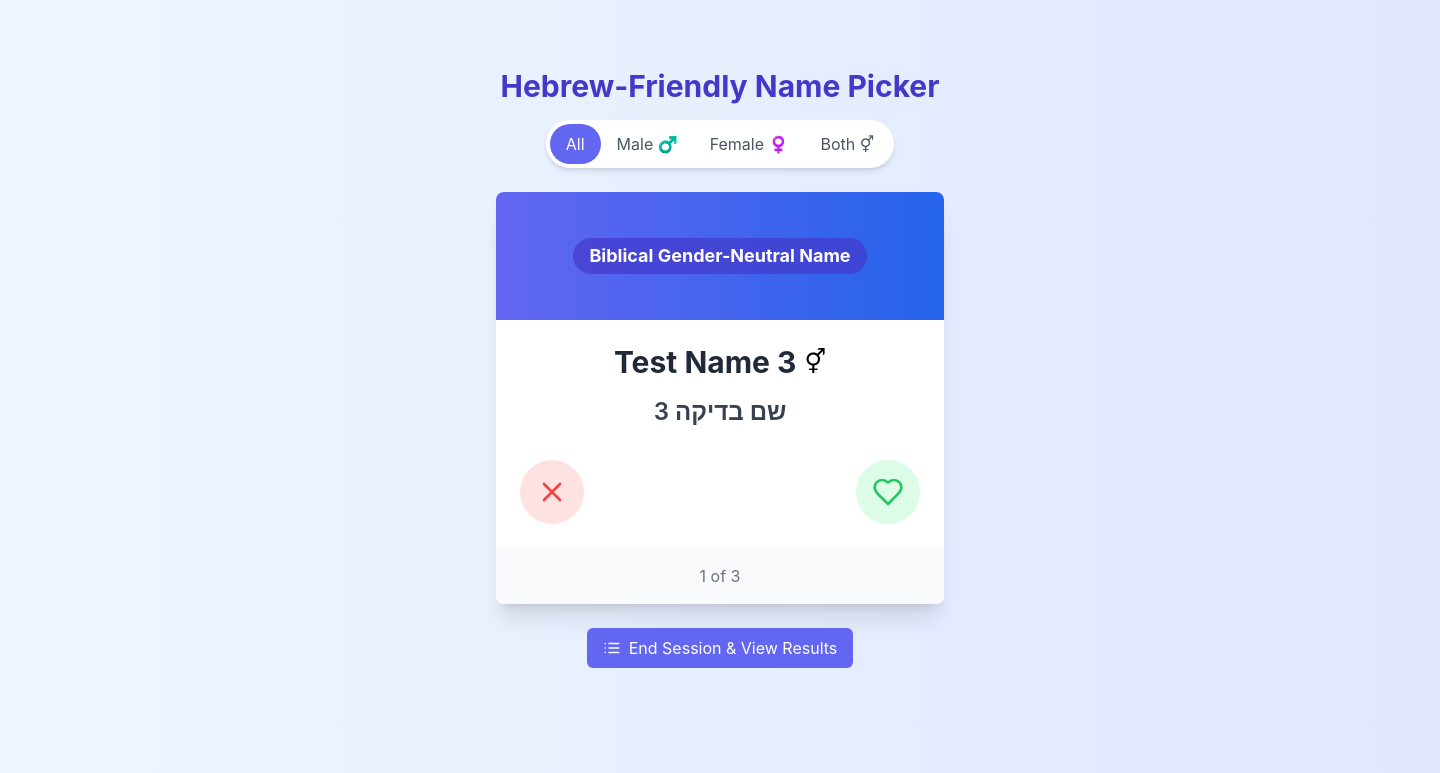
it: HebrewNamesTinder › shows results when all names have been rated
The image size is (1440, 773).
Step 1. Click the button named "Like" → click(888, 492), box [856,460,920,524]
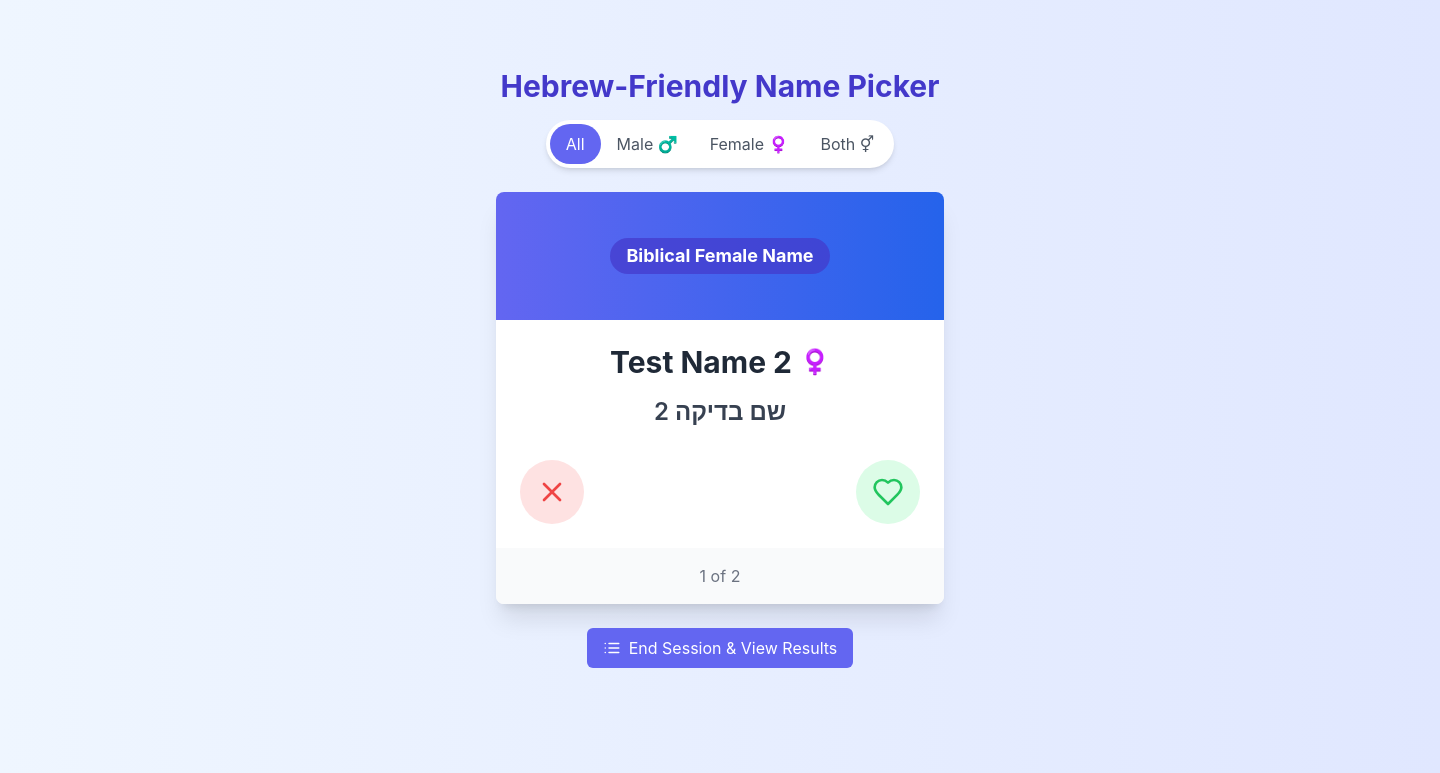
Step 2. Click the button named "Like" → click(888, 492), box [856,460,920,524]
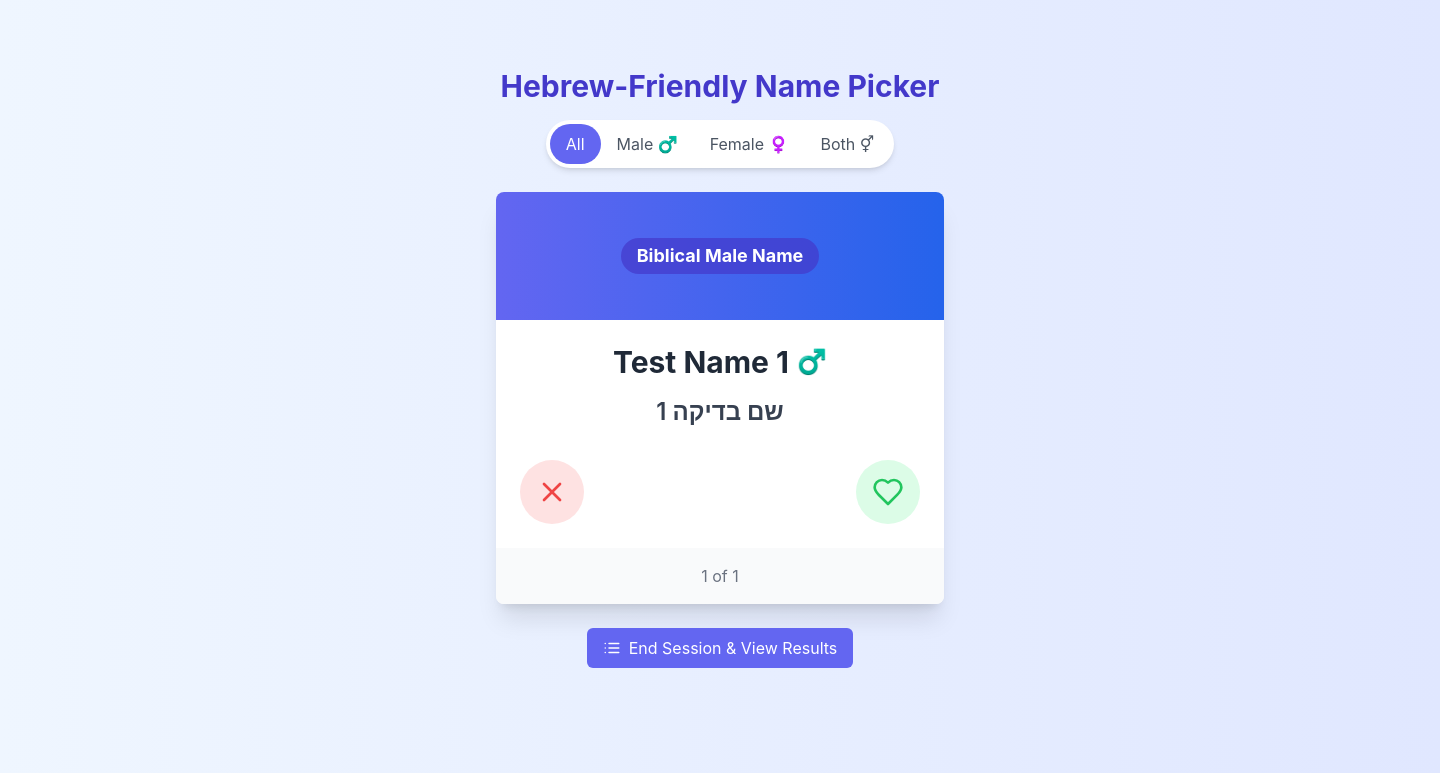
Step 3. Click the button named "Like" → click(888, 492), box [856,460,920,524]
(page scrolled)
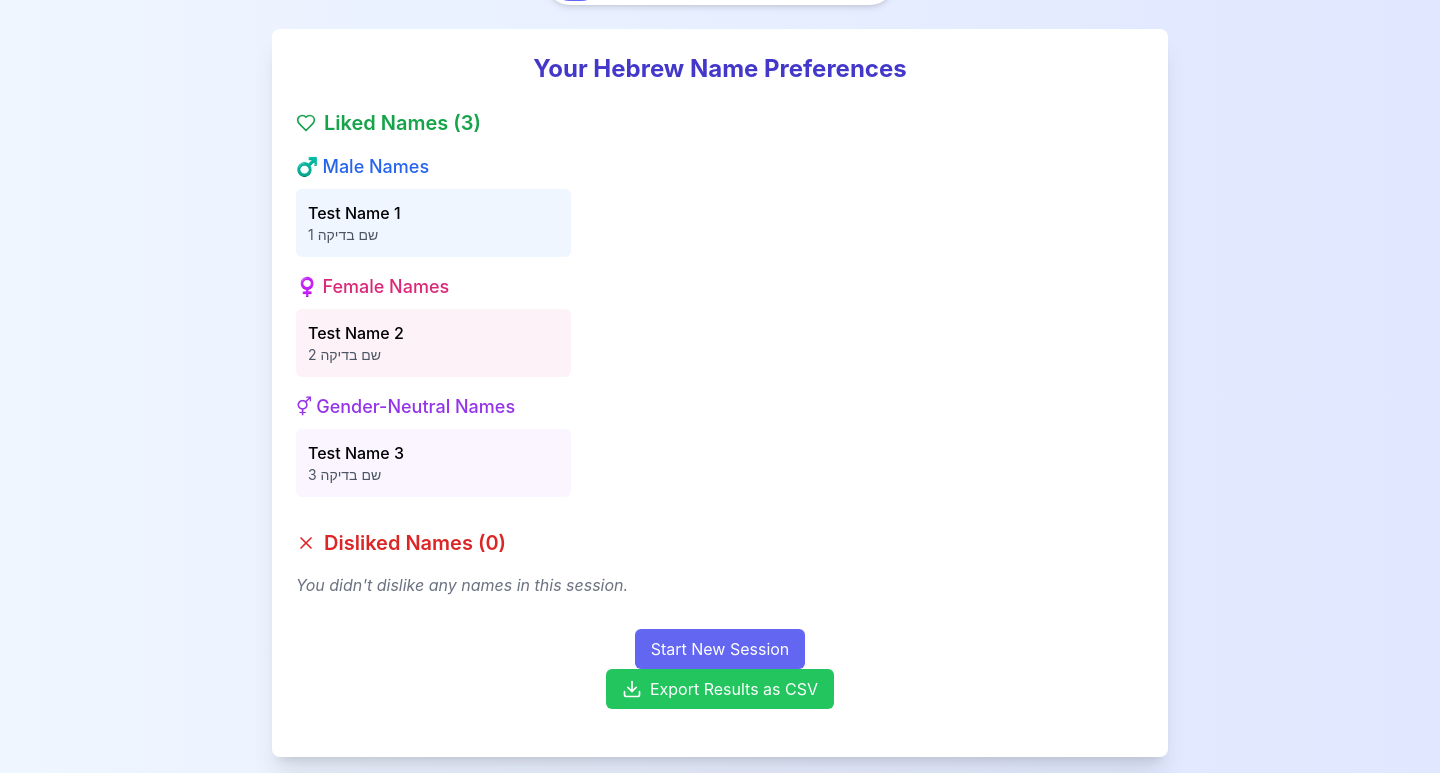
Expected: the button "Export Results as CSV" is shown, [606,669,834,709]
